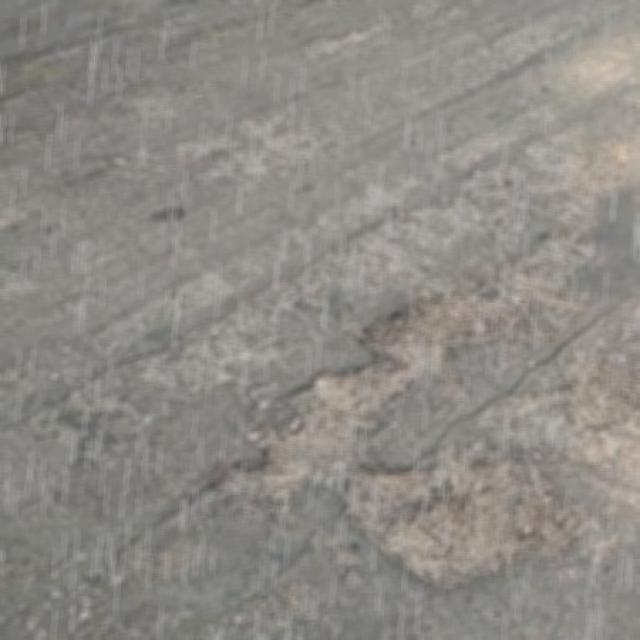road-pothole: (199, 293, 601, 585)
